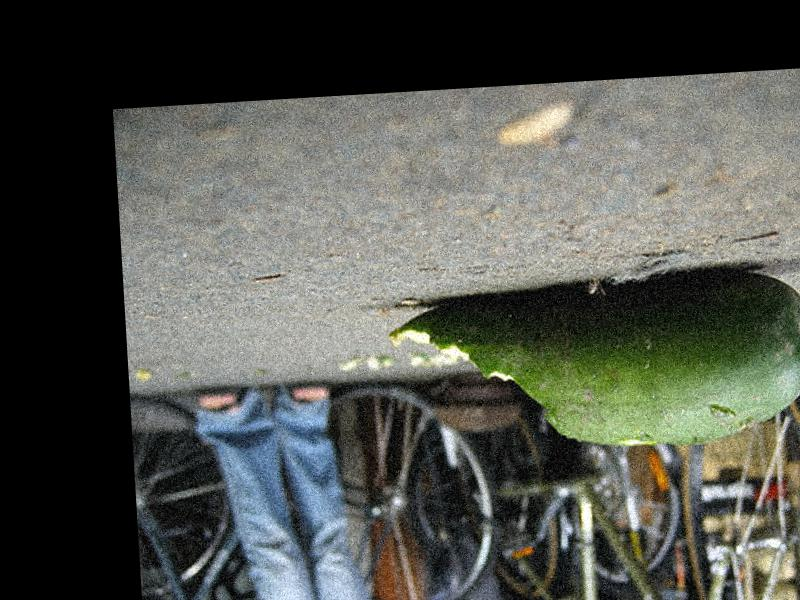Cucumber: (381, 269, 800, 460)
